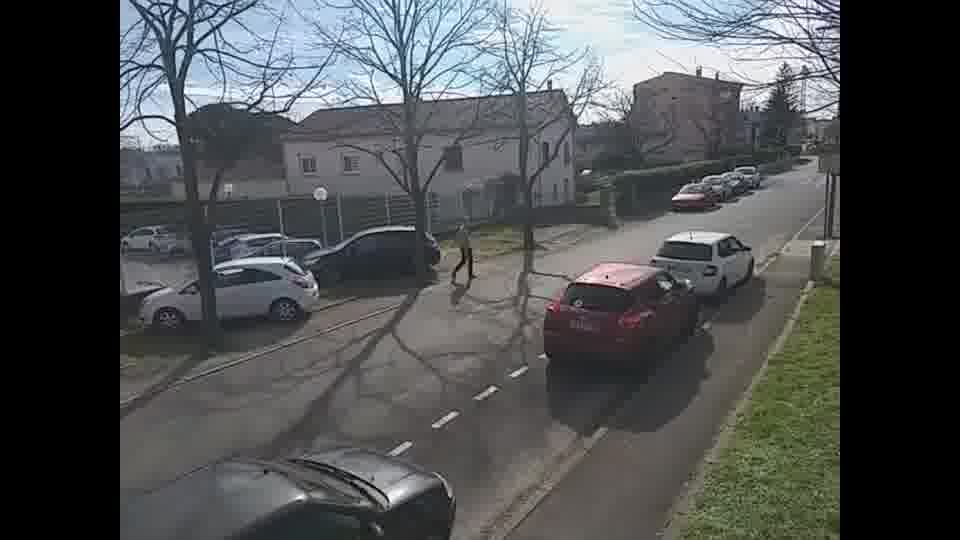jugador: (450, 208, 481, 285)
